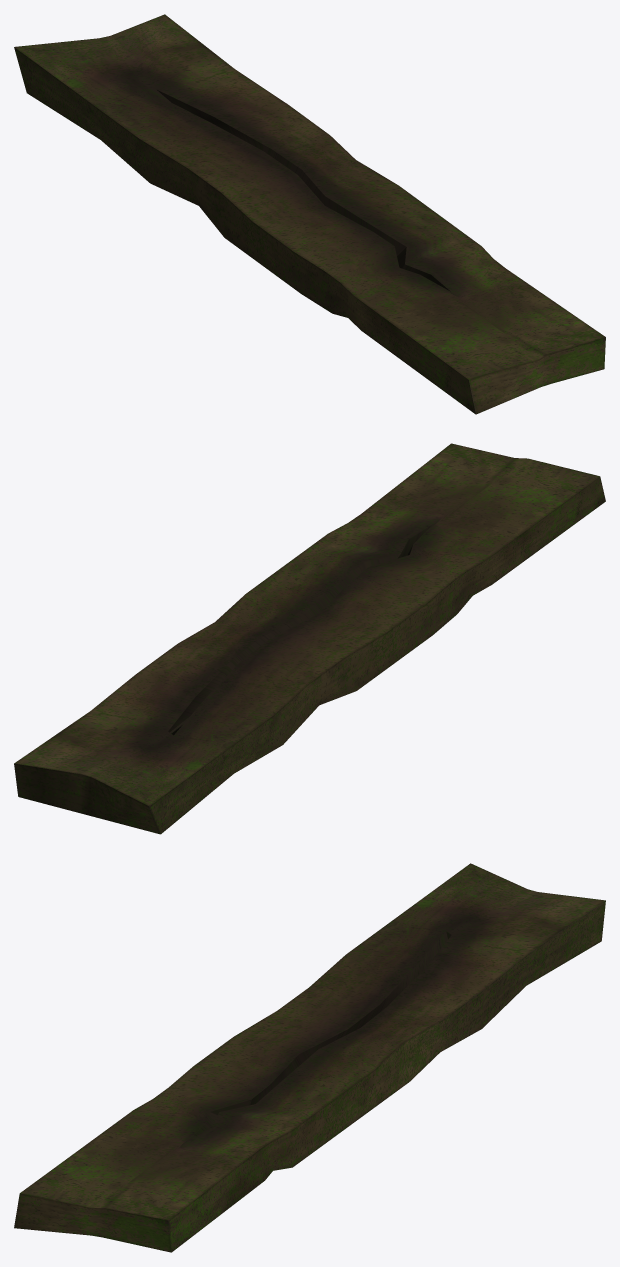
Rendered from ITM_DarkPlank1.fbx.
The picture shows the model from 3 angles, top to bottom: view 1: azimuth 30°, elevation 25°; view 2: azimuth 150°, elevation 25°; view 3: azimuth 330°, elevation 25°; orthographic projection.
Visible parts, largest first — view 1: ITM_DarkPlank; view 2: ITM_DarkPlank; view 3: ITM_DarkPlank.
Part boxes in pixels (x1,y1,x2,y2): ITM_DarkPlank: [14, 14, 605, 414]; ITM_DarkPlank: [14, 443, 605, 834]; ITM_DarkPlank: [14, 863, 605, 1252].
Bounding box in the file's own units: 0.8383 × 0.2237 × 4.64.
